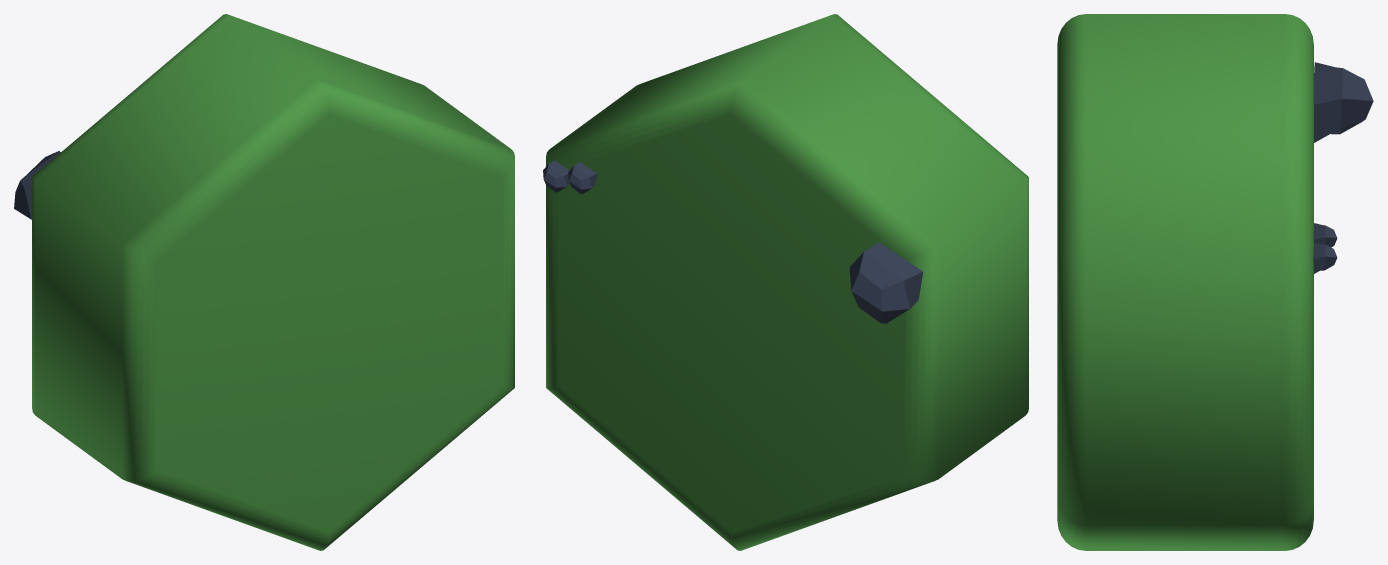
File: GrassTile3.fbx
The picture shows the model from 3 angles, left to right: view 1: azimuth 30°, elevation 25°; view 2: azimuth 150°, elevation 25°; view 3: azimuth 270°, elevation 25°; orthographic projection. The views are drawn at different scales.
Parts seen in each view (by area): view 1: Circle.006; view 2: Circle.006; view 3: Circle.006.
Part boxes in pixels (left/top/right/bottom): Circle.006: left=14, top=14, right=514, bottom=550; Circle.006: left=543, top=14, right=1028, bottom=550; Circle.006: left=1057, top=14, right=1373, bottom=550.
Bounding box in the file's own units: 200 × 231 × 123.
